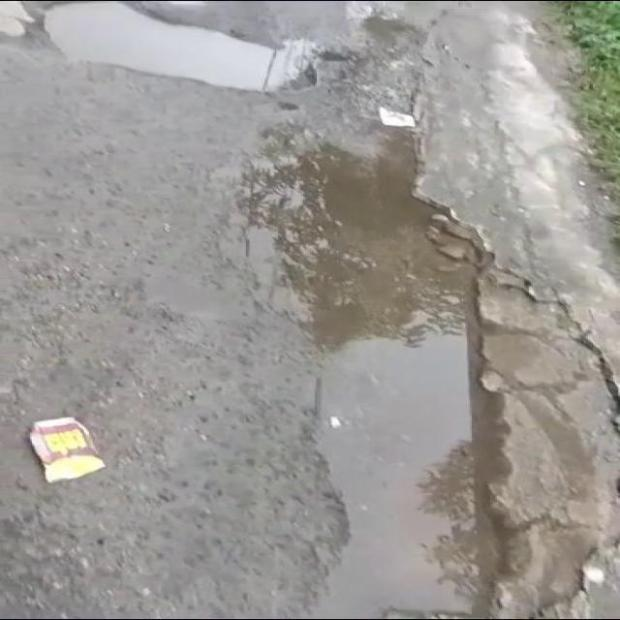lubang: (243, 123, 619, 619), (0, 2, 442, 91)
